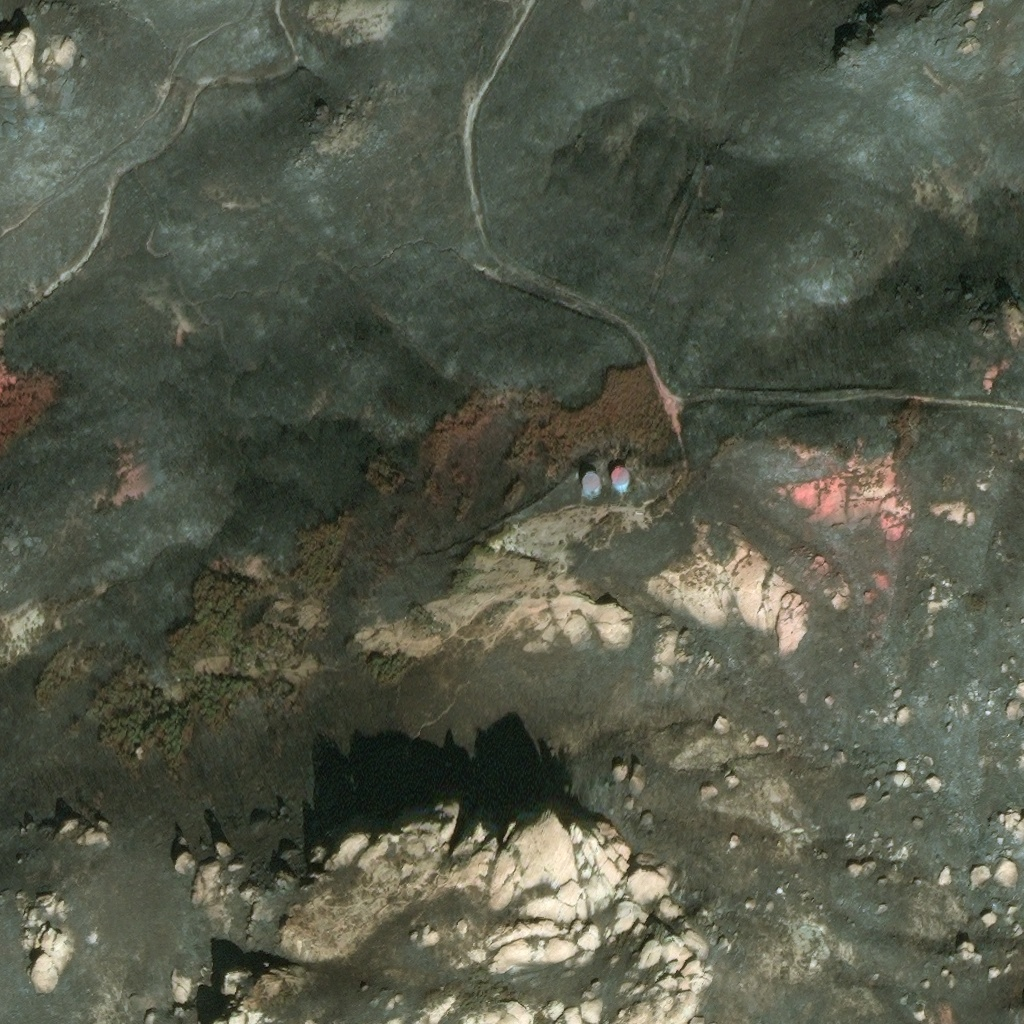1 minor-damage: (611, 470, 630, 493), (583, 475, 601, 497)
